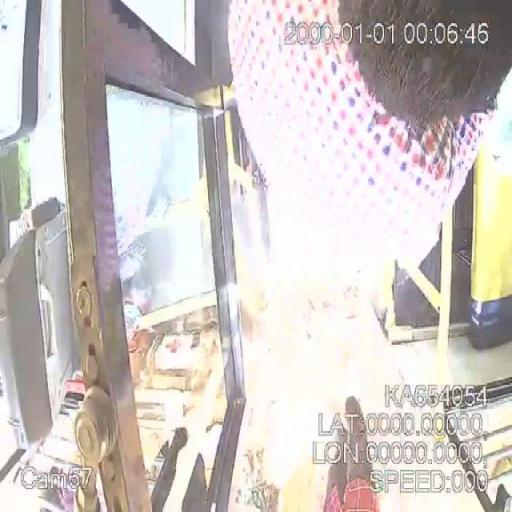persona: (226, 0, 500, 282), (321, 394, 381, 512)
